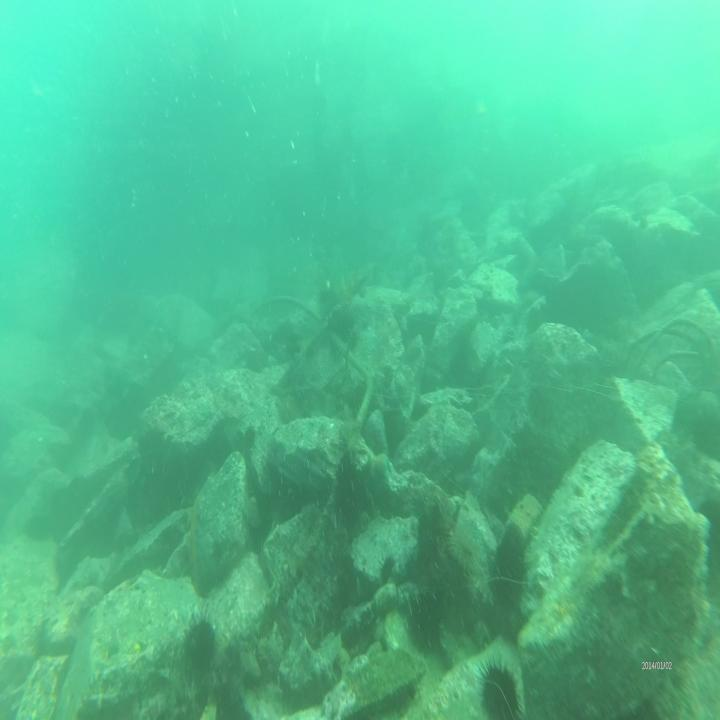echinus: (180, 611, 223, 691), (492, 524, 530, 608), (478, 656, 524, 720), (407, 588, 447, 649), (336, 455, 367, 532), (376, 548, 398, 586)
